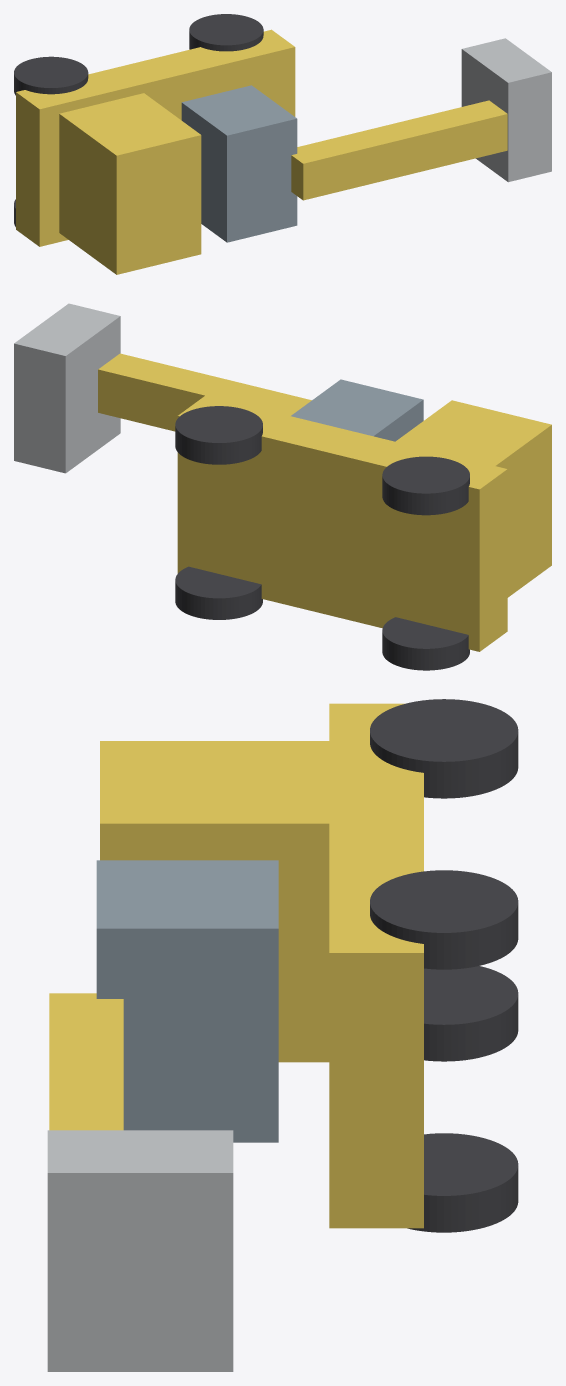
The model's file is telehandler.glb.
3 renders of one model, top to bottom at view 1: azimuth 30°, elevation 25°; view 2: azimuth 150°, elevation 25°; view 3: azimuth 270°, elevation 25°, orthographic. The views are drawn at different scales.
Visible parts, largest first — view 1: part_1, part_0, part_2, part_7, part_8, part_6, part_4; view 2: part_0, part_8, part_1, part_7, part_2, part_4, part_6, part_3, part_5; view 3: part_2, part_8, part_0, part_1, part_4, part_6, part_7, part_5, part_3.
Part boxes in pixels (bbox=[...]): part_1: bbox=[59, 93, 201, 274]; part_0: bbox=[16, 29, 295, 246]; part_2: bbox=[181, 85, 297, 242]; part_7: bbox=[291, 100, 507, 200]; part_8: bbox=[461, 38, 551, 182]; part_6: bbox=[189, 14, 263, 51]; part_4: bbox=[14, 56, 88, 95]; part_0: bbox=[177, 395, 507, 651]; part_8: bbox=[14, 303, 120, 473]; part_1: bbox=[395, 400, 551, 597]; part_7: bbox=[98, 353, 311, 431]; part_2: bbox=[291, 379, 423, 441]; part_4: bbox=[382, 456, 469, 515]; part_6: bbox=[175, 406, 262, 464]; part_3: bbox=[382, 617, 469, 670]; part_5: bbox=[175, 566, 262, 619]; part_2: bbox=[96, 860, 278, 1142]; part_8: bbox=[47, 1130, 233, 1371]; part_0: bbox=[329, 703, 423, 1228]; part_1: bbox=[100, 741, 329, 1062]; part_4: bbox=[370, 699, 518, 798]; part_6: bbox=[370, 870, 518, 969]; part_7: bbox=[49, 993, 123, 1130]; part_5: bbox=[407, 1133, 518, 1232]; part_3: bbox=[424, 966, 518, 1061].
Bounding box in the file's own units: 3.03 × 0.98 × 1.39.
